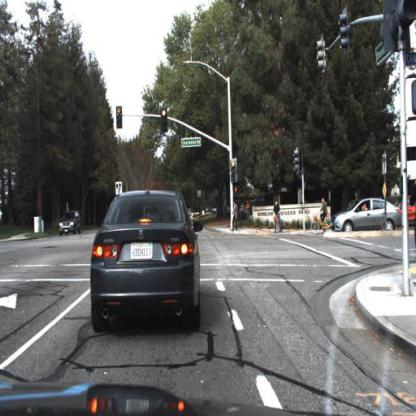biker: (303, 194, 335, 236), (270, 195, 287, 238), (310, 200, 331, 233), (273, 200, 283, 234)
car: (88, 189, 201, 328), (331, 197, 403, 232), (388, 194, 416, 224), (59, 211, 84, 237)
pedestrian: (230, 198, 242, 229), (232, 201, 240, 230), (246, 200, 252, 221), (240, 202, 245, 222)
trafficLight-Red: (396, 1, 416, 71), (230, 162, 238, 180), (161, 111, 168, 131)
trafficLight-RedLeft: (117, 106, 125, 131), (117, 106, 123, 129)
